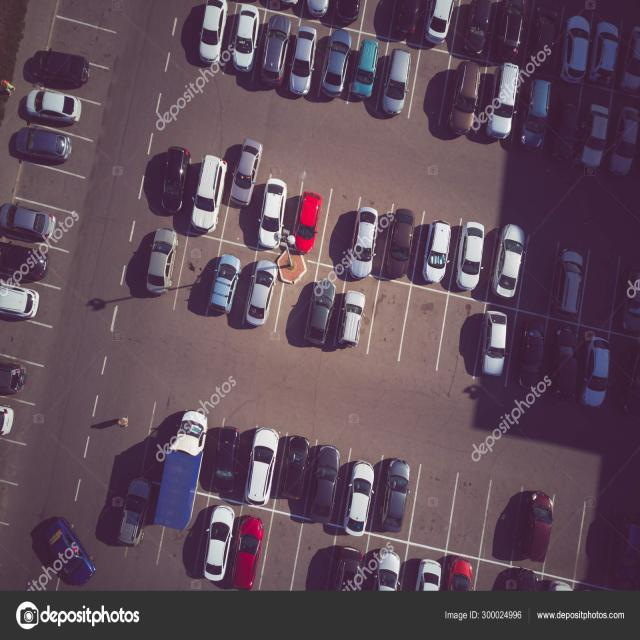libre: (405, 455, 520, 562), (365, 281, 476, 376), (51, 0, 132, 64), (267, 521, 329, 599), (547, 498, 588, 576)
ocupado: (139, 117, 529, 314), (107, 389, 420, 613), (385, 3, 637, 187), (472, 297, 620, 417), (0, 38, 123, 179), (0, 194, 77, 338), (199, 241, 284, 338), (495, 484, 553, 608), (293, 268, 373, 356), (125, 212, 188, 305), (407, 545, 479, 603)
